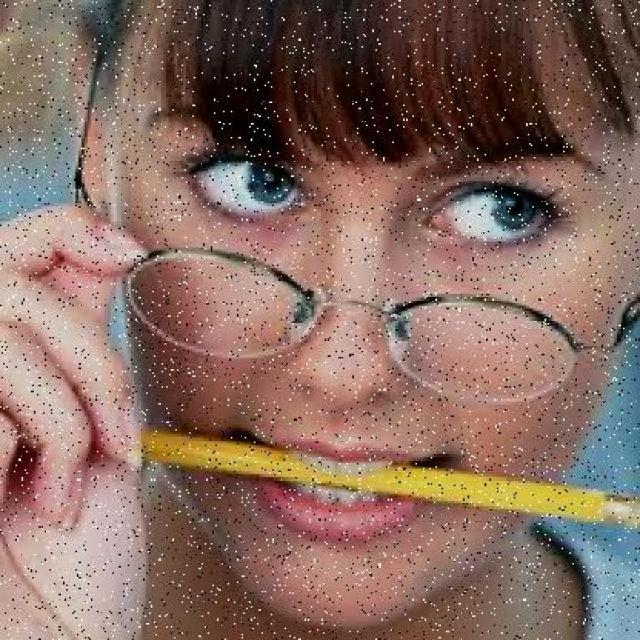glasses: (108, 230, 620, 413)
